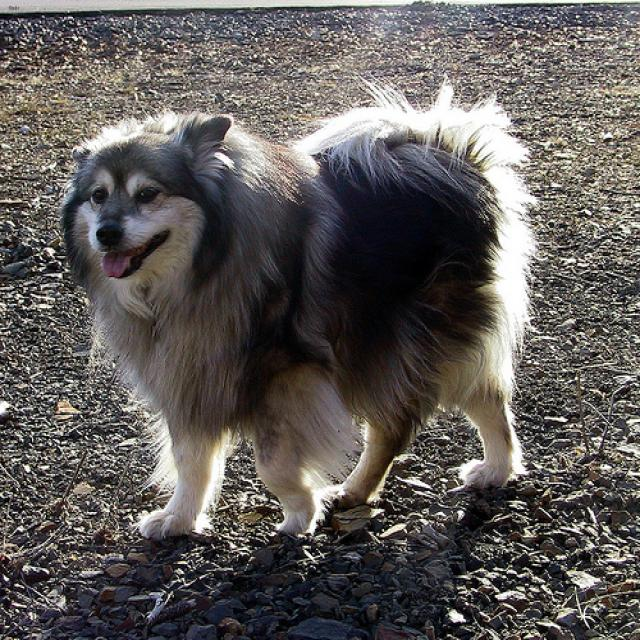dog-keeshond: (54, 65, 541, 549)
